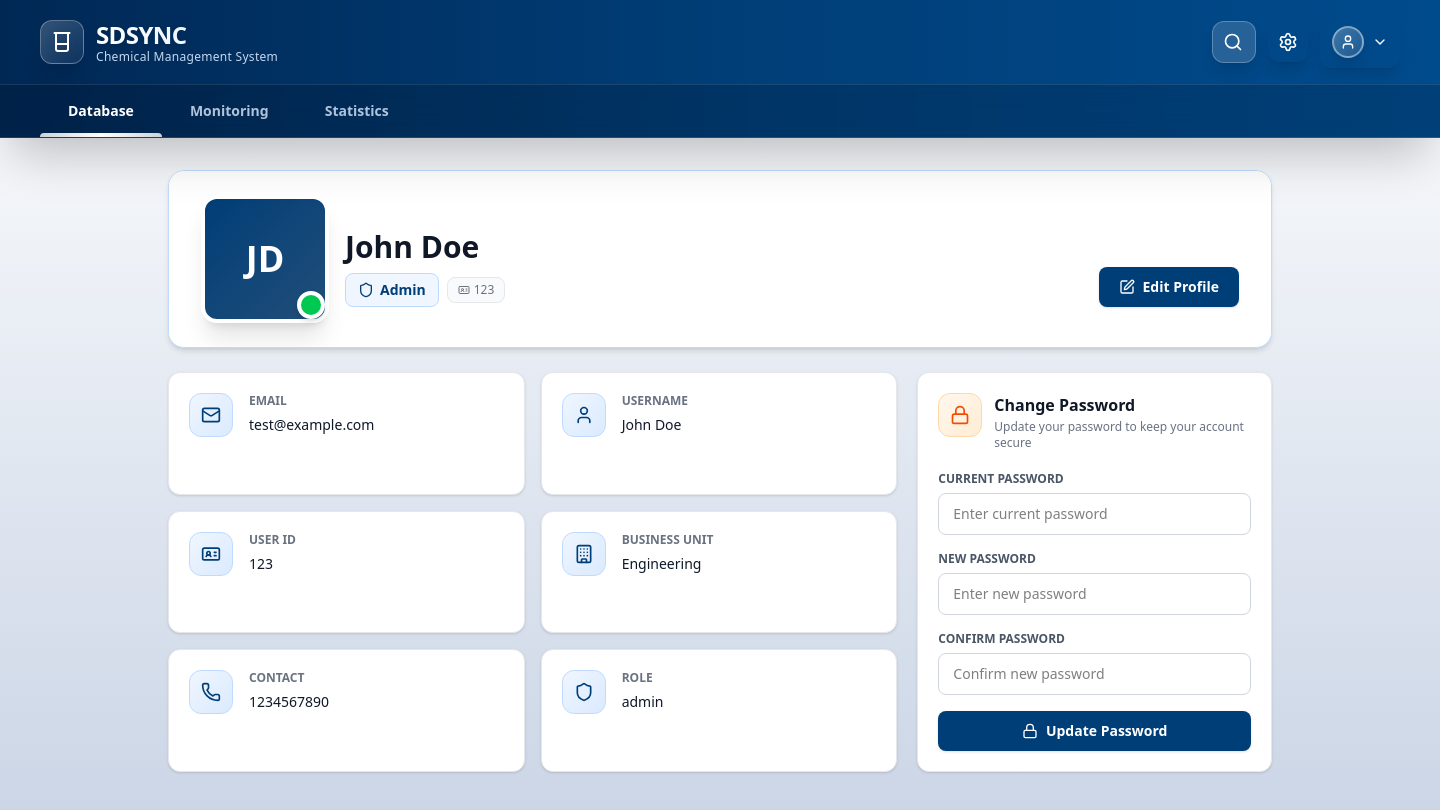
Test: Profile page › password change shows success message
Type "oldpass123" into the password field labelled "Current Password" at (1095, 514), box left=938, top=493, right=1251, bottom=535
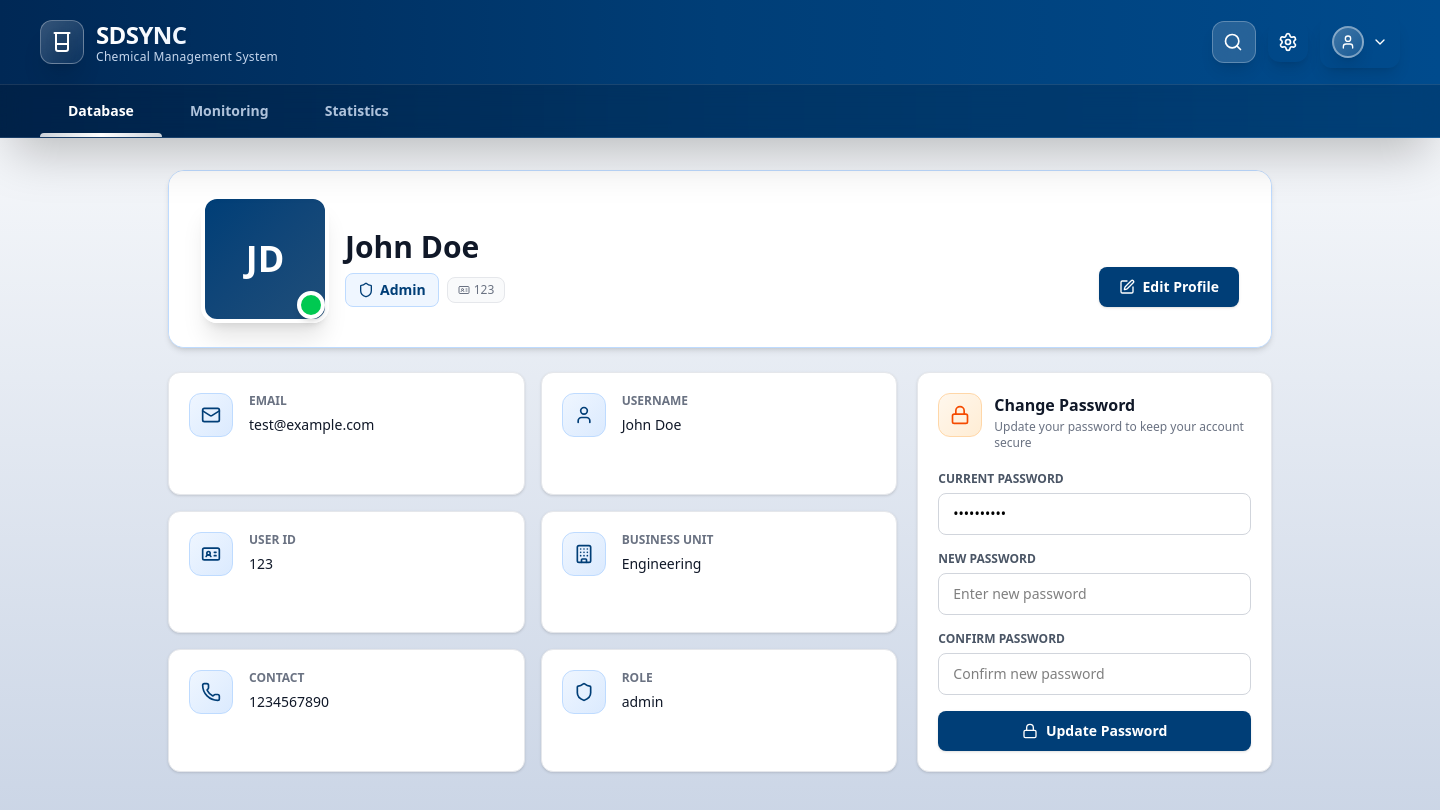
Type "newpass123" into the password field labelled "New Password" at (1095, 594), box left=938, top=573, right=1251, bottom=615
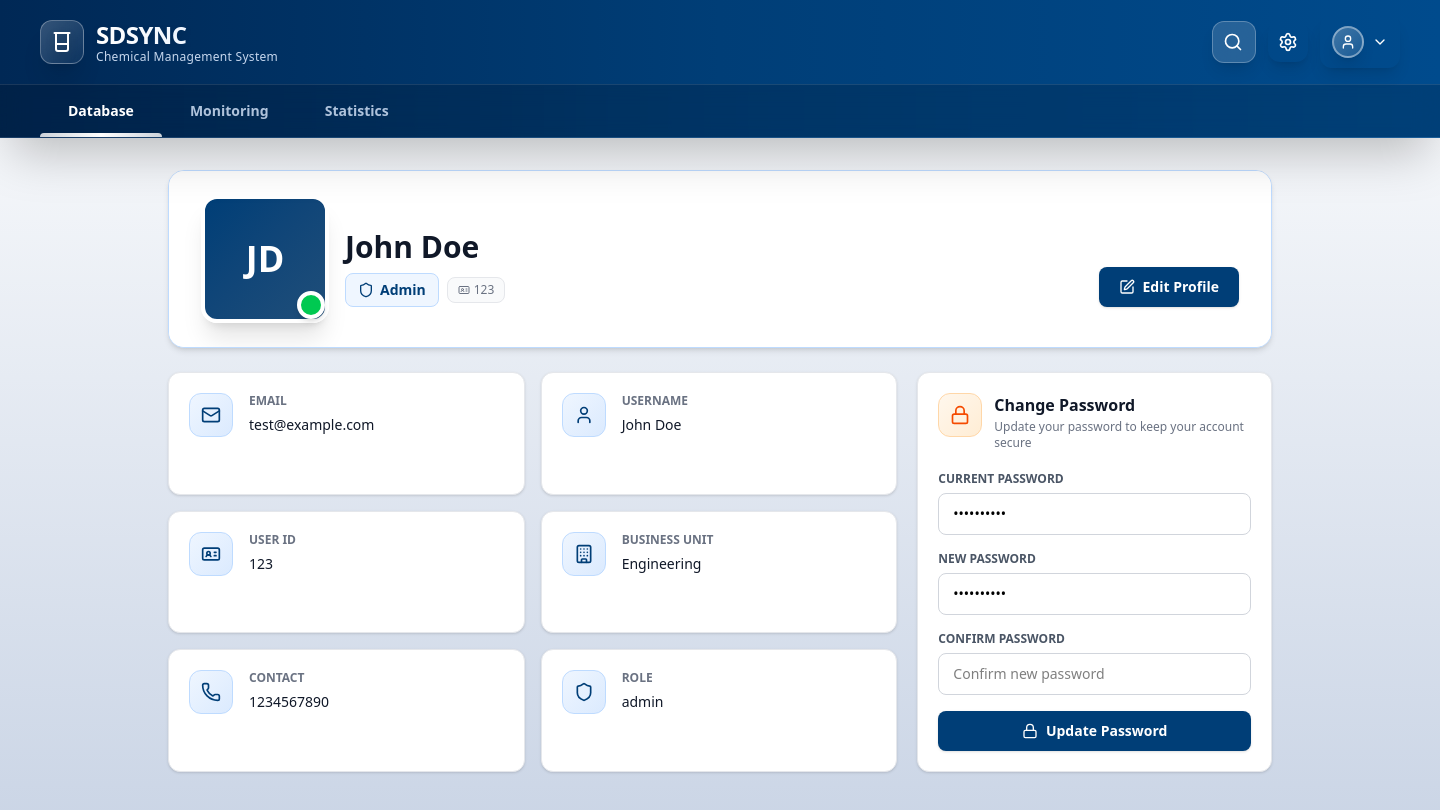
Type "newpass123" into the password field labelled "Confirm Password" at (1095, 674), box left=938, top=653, right=1251, bottom=695
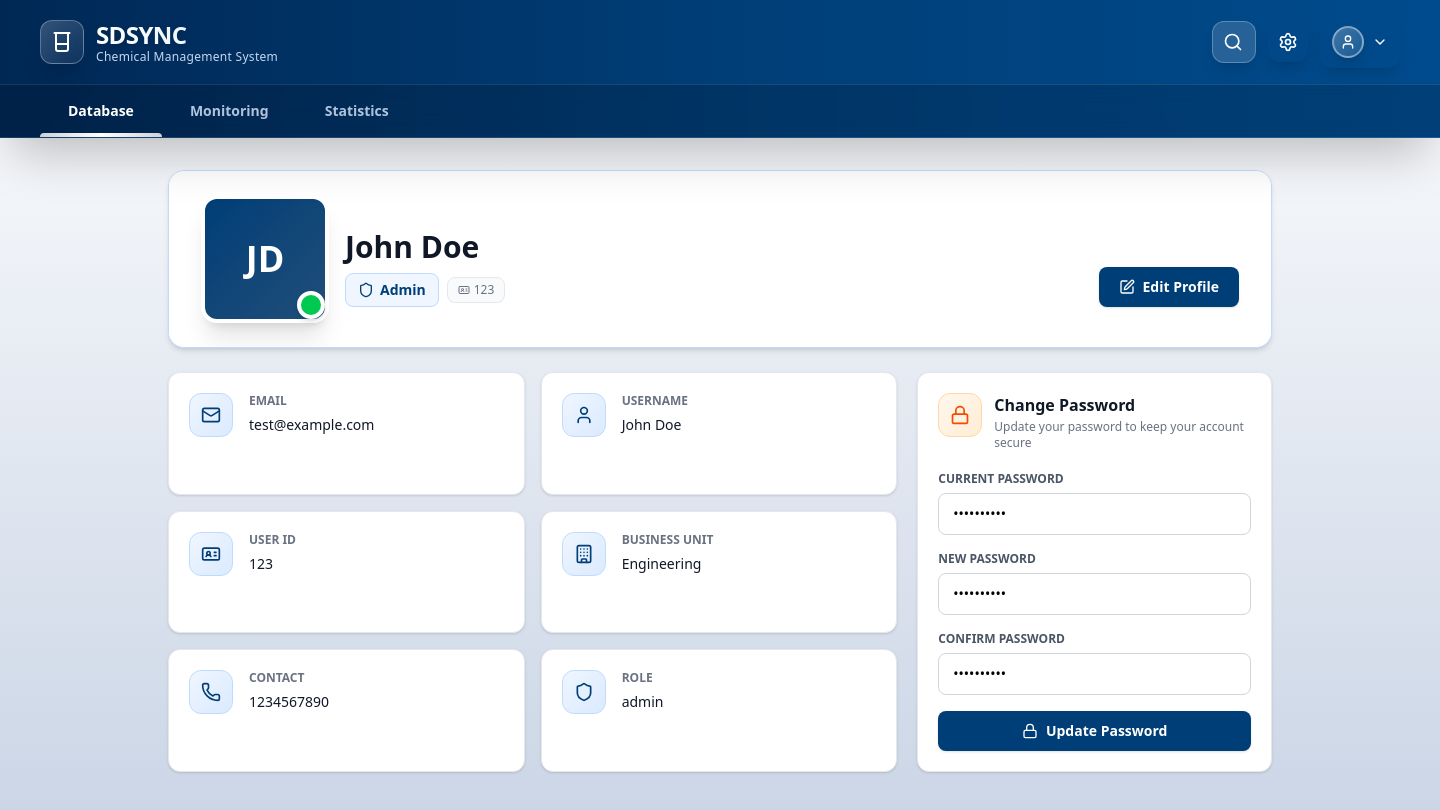
Click the button "Update Password" at (1095, 731), box left=938, top=711, right=1251, bottom=751
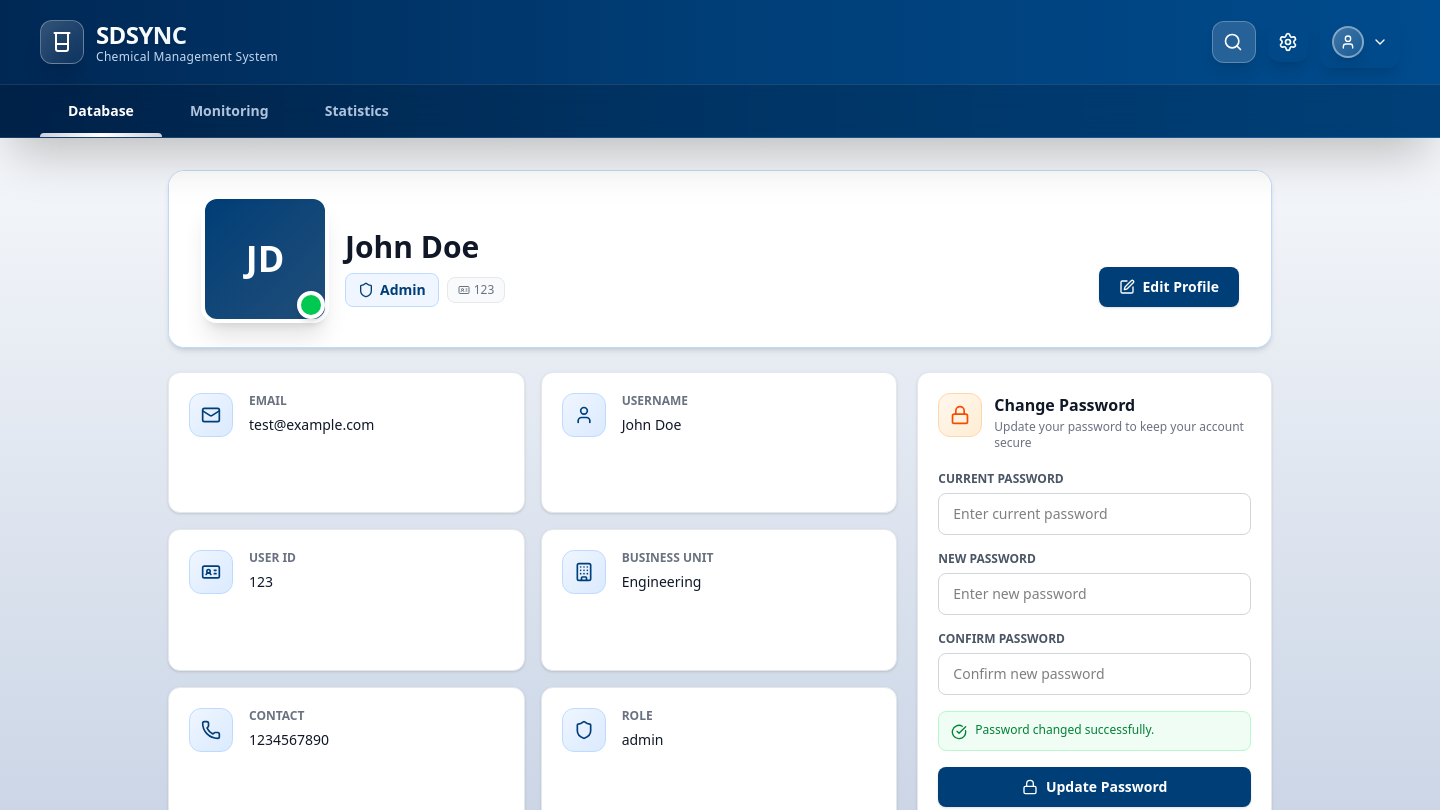
Now the text "Password changed successfully." is shown, box left=975, top=722, right=1154, bottom=738
